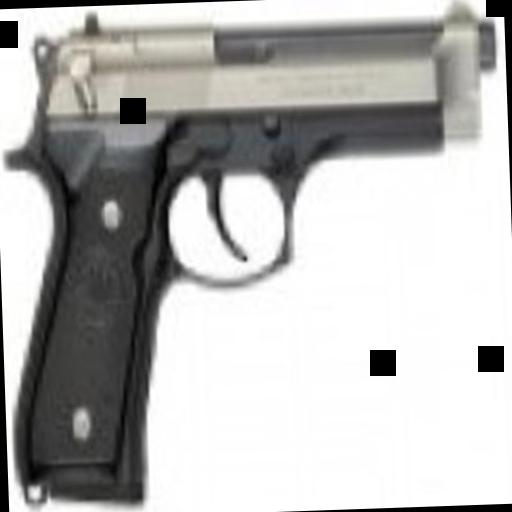Handgun: (0, 0, 499, 502)
